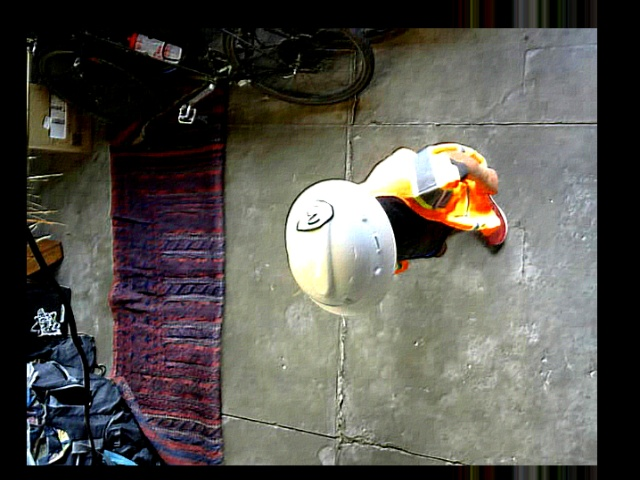three: (294, 200, 331, 229)
